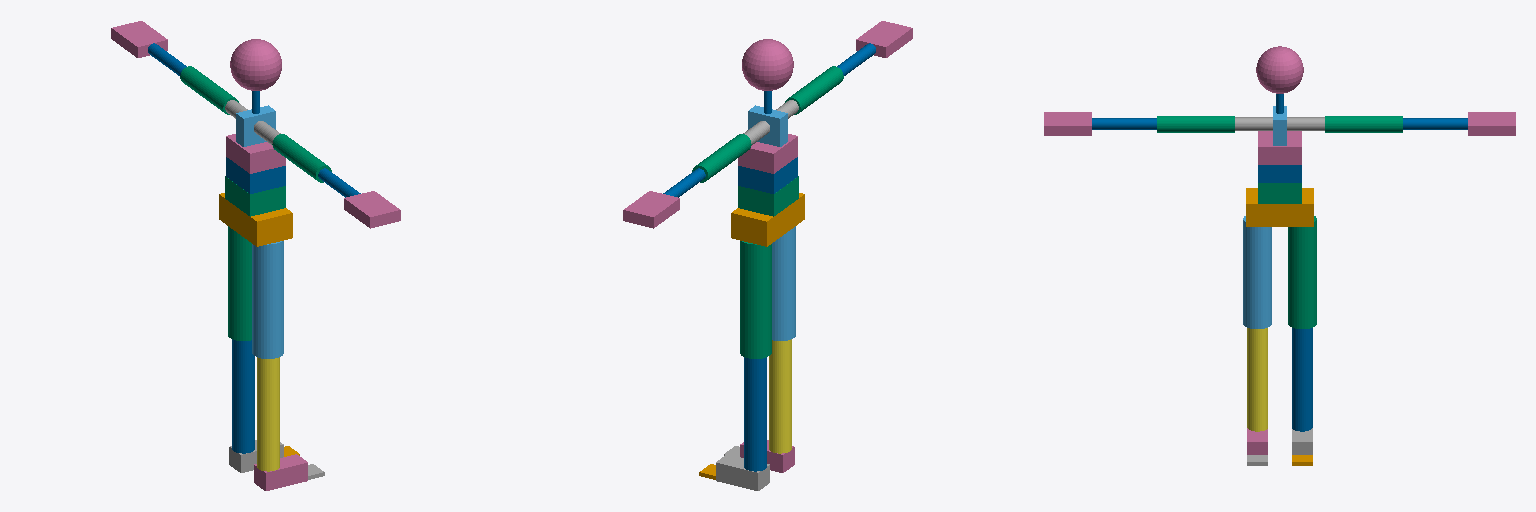
--- Render facts (derived) ---
The picture shows the robot from 3 angles, left to right: view 1: azimuth 30°, elevation 25°; view 2: azimuth 150°, elevation 25°; view 3: azimuth 270°, elevation 25°; orthographic projection.
Robot: XSensStyleModel_template — 49 links, 48 joints (48 revolute); root link Pelvis; default pose: every joint at zero.
Links seen in each view (by area): view 1: RightUpperLeg, RightLowerLeg, LeftUpperLeg, LeftLowerLeg, Head, Pelvis, RightHand, T12, L5, LeftHand, RightFoot, L3 (+4 smaller); view 2: LeftUpperLeg, LeftLowerLeg, RightUpperLeg, RightLowerLeg, Head, Pelvis, LeftHand, T12, L5, RightHand, LeftFoot, L3 (+4 smaller); view 3: RightUpperLeg, LeftUpperLeg, RightLowerLeg, LeftLowerLeg, Pelvis, Head, RightUpperArm, LeftUpperArm, T12, RightHand, LeftHand, L5 (+5 smaller).
Link boxes in pixels (bbox=[...]): RightUpperLeg: bbox=[252, 241, 283, 358]; RightLowerLeg: bbox=[257, 357, 279, 471]; LeftUpperLeg: bbox=[228, 226, 251, 340]; LeftLowerLeg: bbox=[232, 339, 254, 453]; Head: bbox=[230, 39, 281, 90]; Pelvis: bbox=[219, 193, 292, 246]; RightHand: bbox=[344, 191, 400, 228]; T12: bbox=[226, 134, 285, 173]; L5: bbox=[225, 176, 285, 216]; LeftHand: bbox=[111, 21, 167, 57]; RightFoot: bbox=[254, 454, 307, 490]; L3: bbox=[226, 157, 285, 193]; LeftUpperLeg: bbox=[740, 241, 771, 358]; LeftLowerLeg: bbox=[744, 357, 766, 471]; RightUpperLeg: bbox=[772, 226, 795, 340]; RightLowerLeg: bbox=[769, 339, 791, 453]; Head: bbox=[742, 39, 793, 90]; Pelvis: bbox=[731, 193, 804, 246]; LeftHand: bbox=[623, 191, 679, 228]; T12: bbox=[738, 134, 797, 173]; L5: bbox=[738, 176, 798, 216]; RightHand: bbox=[856, 21, 912, 57]; LeftFoot: bbox=[716, 454, 769, 490]; L3: bbox=[738, 157, 797, 193]; RightUpperLeg: bbox=[1243, 216, 1271, 328]; LeftUpperLeg: bbox=[1288, 216, 1316, 328]; RightLowerLeg: bbox=[1247, 328, 1267, 431]; LeftLowerLeg: bbox=[1292, 328, 1312, 431]; Pelvis: bbox=[1246, 188, 1313, 226]; Head: bbox=[1256, 46, 1303, 93]; RightUpperArm: bbox=[1157, 116, 1234, 132]; LeftUpperArm: bbox=[1325, 116, 1402, 132]; T12: bbox=[1258, 131, 1301, 164]; RightHand: bbox=[1044, 112, 1091, 135]; LeftHand: bbox=[1468, 112, 1515, 135]; L5: bbox=[1258, 183, 1301, 203].
Bounding box of the posed robot: 0.3211 × 1.97 × 1.83 m (x, y, z).
Geometry: primitives only (box / cylinder / sphere), no mesh files.

robot.urdf — XSensStyleModel_template:
<!--URDF MODEL 48 DoFs-->

<robot name="XSensStyleModel_template">
<!--To open this model with Gazebo replace the null masses, inertias and dimensions of the 'fake links f1 and f2'-->
    <!--LINKS-->
	<!--Link base (1)-->
	<link name="Pelvis">
        <inertial>
            <mass value="5.816"/>
			<!--COM origin wrt pHipOrigin-->
            <origin xyz="0           0    0.056125" rpy="0 0 0" />
            <inertia ixx="0.04582" iyy="0.017636" izz="0.05243" ixy="0" ixz="0" iyz="0"/>
        </inertial>

        <visual>
			<!--box origin wrt pHipOrigin-->
            <origin xyz="0           0    0.056125" rpy="0 0 0" />
            <geometry>
                <box size="0.15816     0.28838     0.10665"/>
            </geometry>
        </visual>

        <collision>
			<!--box origin wrt pHipOrigin-->
            <origin xyz="0           0    0.056125" rpy="0 0 0" />
            <geometry>
                <box size="0.15816     0.28838     0.10665"/>
            </geometry>
        </collision>

    </link>
    <!--Chain from (2) to (7)-->
	<link name="L5_f1">
        <inertial>
            <mass value="0"/>
            <origin xyz="0 0 0" rpy="0 0 0" />
            <inertia ixx="0" iyy="0" izz="0" ixy="0" ixz="0" iyz="0"/>
        </inertial>
    </link>
	<link name="L5">
        <inertial>
            <mass value="7.4154"/>
			<!--COM origin wrt jL5S1-->
            <origin xyz="0           0    0.046982" rpy="0 0 0" />
            <inertia ixx="0.027034" iyy="0.020913" izz="0.037036" ixy="0" ixz="0" iyz="0"/>
        </inertial>

        <visual>
			<!--box origin origin wrt jL5S1-->
            <origin xyz="0           0    0.046982" rpy="0 0 0" />
            <geometry>
                <box size="0.15816     0.18687    0.093964"/>
            </geometry>
        </visual>

        <collision>
			<!--box origin origin wrt jL5S1-->
            <origin xyz="0           0    0.046982" rpy="0 0 0" />
            <geometry>
                <box size="0.15816     0.18687    0.093964"/>
            </geometry>
        </collision>
    </link>
	<link name="L3_f1">
        <inertial>
            <mass value="0"/>
            <origin xyz="0 0 0" rpy="0 0 0" />
            <inertia ixx="0" iyy="0" izz="0" ixy="0" ixz="0" iyz="0"/>
        </inertial>
    </link>
	<link name="L3">
        <inertial>
            <mass value="7.4154"/>
			<!--COM origin wrt jL4L3-->
            <origin xyz="0           0    0.042435" rpy="0 0 0" />
            <inertia ixx="0.026029" iyy="0.019908" izz="0.037036" ixy="0" ixz="0" iyz="0"/>
        </inertial>

        <visual>
			<!--box origin origin wrt jL4L3-->
            <origin xyz="0           0    0.042435" rpy="0 0 0" />
            <geometry>
                <box size="0.15816     0.18687     0.08487"/>
            </geometry>
        </visual>

        <collision>
			<!--box origin origin wrt jL4L3-->
            <origin xyz="0           0    0.042435" rpy="0 0 0" />
            <geometry>
                <box size="0.15816     0.18687     0.08487"/>
            </geometry>
        </collision>
    </link>
	<link name="T12_f1">
        <inertial>
            <mass value="0"/>
            <origin xyz="0 0 0" rpy="0 0 0" />
            <inertia ixx="0" iyy="0" izz="0" ixy="0" ixz="0" iyz="0"/>
        </inertial>
    </link>
	<link name="T12">
        <inertial>
            <mass value="7.4154"/>
			<!--COM origin wrt jL1T12-->
            <origin xyz="0           0    0.042435" rpy="0 0 0" />
            <inertia ixx="0.026029" iyy="0.019908" izz="0.037036" ixy="0" ixz="0" iyz="0"/>
        </inertial>

        <visual>
			<!--box origin origin wrt jL1T12-->
            <origin xyz="0           0    0.042435" rpy="0 0 0" />
            <geometry>
                <box size="0.15816     0.18687     0.08487"/>
            </geometry>
        </visual>

        <collision>
			<!--box origin origin wrt jL1T12-->
            <origin xyz="0           0    0.042435" rpy="0 0 0" />
            <geometry>
                <box size="0.15816     0.18687     0.08487"/>
            </geometry>
        </collision>
    </link>
	<link name="T8_f1">
        <inertial>
            <mass value="0"/>
            <origin xyz="0 0 0" rpy="0 0 0" />
            <inertia ixx="0" iyy="0" izz="0" ixy="0" ixz="0" iyz="0"/>
        </inertial>
    </link>
	<link name="T8_f2">
        <inertial>
            <mass value="0"/>
            <origin xyz="0 0 0" rpy="0 0 0" />
            <inertia ixx="0" iyy="0" izz="0" ixy="0" ixz="0" iyz="0"/>
        </inertial>
    </link>
	<link name="T8">
        <inertial>
            <mass value="2.908"/>
			<!--COM origin wrt jT9T8-->
            <origin xyz="0           0    0.059789" rpy="0 0 0" />
            <inertia ixx="0.0042999" iyy="0.0083658" izz="0.0057357" ixy="0" ixz="0" iyz="0"/>
        </inertial>

        <visual>
			<!--box origin wrt jT9T8-->
            <origin xyz="0           0    0.059789" rpy="0 0 0" />
            <geometry>
                <box size="0.14221    0.058696     0.11958"/>
            </geometry>
        </visual>

        <collision>
			<!--box origin wrt jT9T8-->
            <origin xyz="0           0    0.059789" rpy="0 0 0" />
            <geometry>
                <box size="0.14221    0.058696     0.11958"/>
            </geometry>
        </collision>

    </link>
	<link name="Neck_f1">
        <inertial>
            <mass value="0"/>
            <origin xyz="0 0 0" rpy="0 0 0" />
            <inertia ixx="0" iyy="0" izz="0" ixy="0" ixz="0" iyz="0"/>
        </inertial>
    </link>
	<link name="Neck_f2">
        <inertial>
            <mass value="0"/>
            <origin xyz="0 0 0" rpy="0 0 0" />
            <inertia ixx="0" iyy="0" izz="0" ixy="0" ixz="0" iyz="0"/>
        </inertial>
    </link>
	<link name="Neck">
        <inertial>
            <mass value="0.8724"/>
			<!--COM origin wrt jT1C7-->
            <origin xyz="0           0    0.048835" rpy="0 0 0" />
            <inertia ixx="0.00091024" iyy="0.00091024" izz="0.00043345" ixy="0" ixz="0" iyz="0"/>
        </inertial>

        <visual>
			<!--box origin wrt jT1C7-->
            <origin xyz="0           0    0.048835" rpy="0 0 0" />
            <geometry>
		<cylinder length="0.09767" radius="0.015762"/>
            </geometry>
        </visual>

        <collision>
			<!--box origin wrt jT1C7-->
            <origin xyz="0           0    0.048835" rpy="0 0 0" />
            <geometry>
                <cylinder length="0.09767" radius="0.015762"/>
            </geometry>
        </collision>
    </link>
	<link name="Head_f1">
        <inertial>
            <mass value="0"/>
            <origin xyz="0 0 0" rpy="0 0 0" />
            <inertia ixx="0" iyy="0" izz="0" ixy="0" ixz="0" iyz="0"/>
        </inertial>
    </link>
	<link name="Head">
        <inertial>
            <mass value="2.6172"/>
			<!--COM origin wrt jC1Head-->
            <origin xyz="0           0    0.099558" rpy="0 0 0" />
            <inertia ixx="0.010376" iyy="0.010376" izz="0.010376" ixy="0" ixz="0" iyz="0"/>
        </inertial>

        <visual>
			<!--boc origin wrt jC1Head-->
            <origin xyz="0           0    0.099558" rpy="0 0 0" />
            <geometry>
                <sphere radius="0.099558"/>
            </geometry>
        </visual>

        <collision>
			<!--box origin wrt jC1Head-->
            <origin xyz="0           0    0.099558" rpy="0 0 0" />
            <geometry>
                <sphere radius="0.099558"/>
            </geometry>
        </collision>

    </link>
	<!--Chain from (8) to (11)-->
	<link name="RightShoulder">
        <inertial>
            <mass value="2.2537"/>
			<!--COM origin wrt jRightC7Shoulder-->
            <origin xyz="0   -0.078772           0" rpy="0 0 0" />
            <inertia ixx="0.0051014" iyy="0.00087992" izz="0.0051014" ixy="0" ixz="0" iyz="0"/>
        </inertial>

        <visual>
			<!--box origin wrt jRightC7Shoulder. RPY rotated of pi/2.-->
            <origin xyz="0   -0.078772           0" rpy="1.5708 0 0" />
            <geometry>
                <cylinder length="0.15754" radius="0.027944"/>
            </geometry>
        </visual>

        <collision>
			<!--box origin wrt jRightC7Shoulder. RPY rotated of pi/2.-->
            <origin xyz="0   -0.078772           0" rpy="1.5708 0 0" />
            <geometry>
                <cylinder length="0.15754" radius="0.027944"/>
            </geometry>
        </collision>

    </link>
	<link name="RightUpperArm_f1">
        <inertial>
            <mass value="0"/>
            <origin xyz="0 0 0" rpy="0 0 0" />
            <inertia ixx="0" iyy="0" izz="0" ixy="0" ixz="0" iyz="0"/>
        </inertial>
    </link>
	<link name="RightUpperArm_f2">
        <inertial>
            <mass value="0"/>
            <origin xyz="0 0 0" rpy="0 0 0" />
            <inertia ixx="0" iyy="0" izz="0" ixy="0" ixz="0" iyz="0"/>
        </inertial>
    </link>
    <link name="RightUpperArm">
        <inertial>
            <mass value="2.181"/>
			<!--COM origin wrt jRightShoulder-->
            <origin xyz="0    -0.16437           0" rpy="0 0 0" />
            <inertia ixx="0.020332" iyy="0.0013806" izz="0.020332" ixy="0" ixz="0" iyz="0"/>
        </inertial>

        <visual>
			<!--box origin wrt jRightShoulder. RPY rotated of pi/2.-->
            <origin xyz="0    -0.16437           0" rpy="1.5708 0 0" />
            <geometry>
                <cylinder length="0.32874" radius="0.035581"/>
            </geometry>
        </visual>

        <collision>
			<!--box origin wrt jRightShoulder. RPY rotated of pi/2.-->
            <origin xyz="0    -0.16437           0" rpy="1.5708 0 0" />
            <geometry>
                <cylinder length="0.32874" radius="0.035581"/>
            </geometry>
        </collision>

    </link>
	<link name="RightForeArm_f1">
        <inertial>
            <mass value="0"/>
            <origin xyz="0 0 0" rpy="0 0 0" />
            <inertia ixx="0" iyy="0" izz="0" ixy="0" ixz="0" iyz="0"/>
        </inertial>
    </link>
	<link name="RightForeArm">
        <inertial>
            <mass value="1.454"/>
			<!--COM origin wrt jRightElbow-->
            <origin xyz="0    -0.13431           0" rpy="0 0 0" />
            <inertia ixx="0.008948" iyy="0.00040906" izz="0.008948" ixy="0" ixz="0" iyz="0"/>
        </inertial>

        <visual>
			<!--box origin wrt jRightElbow. RPY rotated of pi/2.-->
            <origin xyz="0    -0.13431           0" rpy="1.5708 0 0" />
            <geometry>
                <cylinder length="0.26863" radius="0.023721"/>
            </geometry>
        </visual>

        <collision>
			<!--box origin wrt jRightElbow. RPY rotated of pi/2.-->
            <origin xyz="0    -0.13431           0" rpy="1.5708 0 0" />
            <geometry>
                <cylinder length="0.26863" radius="0.023721"/>
            </geometry>
        </collision>

    </link>
	<link name="RightHand_f1">
        <inertial>
            <mass value="0"/>
            <origin xyz="0 0 0" rpy="0 0 0" />
            <inertia ixx="0" iyy="0" izz="0" ixy="0" ixz="0" iyz="0"/>
        </inertial>
    </link>
	<link name="RightHand">
        <inertial>
            <mass value="1.0962"/>
			<!--COM origin wrt jRightWrist-->
            <origin xyz="0    -0.10039           0" rpy="0 0 0" />
            <inertia ixx="0.0038879" iyy="0.0018422" izz="0.0053188" ixy="0" ixz="0" iyz="0"/>
        </inertial>

        <visual>
			<!--box origin wrt jRightWrist-->
            <origin xyz="0    -0.10039           0" rpy="0 0 0" />
            <geometry>
                <box size="0.13385     0.20077    0.047441"/>
            </geometry>
        </visual>

        <collision>
			<!--box origin wrt jRightWrist-->
            <origin xyz="0    -0.10039           0" rpy="0 0 0" />
            <geometry>
                <box size="0.13385     0.20077    0.047441"/>
            </geometry>
        </collision>

    </link>
	<!--Chain from (12) to (15)-->
	<link name="LeftShoulder">
        <inertial>
            <mass value="2.2537"/>
			<!--COM origin wrt jLeftC7Shoulder-->
            <origin xyz="0    0.078772           0" rpy="0 0 0" />
            <inertia ixx="0.0051014" iyy="0.00087992" izz="0.0051014" ixy="0" ixz="0" iyz="0"/>
        </inertial>

        <visual>
			<!--box origin wrt jLeftC7Shoulder. RPY rotated of pi/2.-->
            <origin xyz="0    0.078772           0" rpy="1.5708 0 0" />
            <geometry>
                <cylinder length="0.15754" radius="0.027944"/>
            </geometry>
        </visual>

        <collision>
			<!--box origin wrt jLeftC7Shoulder. RPY rotated of pi/2.-->
            <origin xyz="0    0.078772           0" rpy="1.5708 0 0" />
            <geometry>
                <cylinder length="0.15754" radius="0.027944"/>
            </geometry>
        </collision>

    </link>
	<link name="LeftUpperArm_f1">
        <inertial>
            <mass value="0"/>
            <origin xyz="0 0 0" rpy="0 0 0" />
            <inertia ixx="0" iyy="0" izz="0" ixy="0" ixz="0" iyz="0"/>
        </inertial>
    </link>
	<link name="LeftUpperArm_f2">
        <inertial>
            <mass value="0"/>
            <origin xyz="0 0 0" rpy="0 0 0" />
            <inertia ixx="0" iyy="0" izz="0" ixy="0" ixz="0" iyz="0"/>
        </inertial>
    </link>
	<link name="LeftUpperArm">
        <inertial>
            <mass value="2.181"/>
			<!--COM origin wrt jLeftShoulder-->
            <origin xyz="0     0.16437           0" rpy="0 0 0" />
            <inertia ixx="0.020332" iyy="0.0013806" izz="0.020332" ixy="0" ixz="0" iyz="0"/>
        </inertial>

        <visual>
			<!--box origin wrt jLeftShoulder. RPY rotated of pi/2.-->
            <origin xyz="0     0.16437           0" rpy="1.5708 0 0" />
            <geometry>
                <cylinder length="0.32874" radius="0.035581"/>
            </geometry>
        </visual>

        <collision>
			<!--box origin wrt jLeftShoulder. RPY rotated of pi/2.-->
            <origin xyz="0     0.16437           0" rpy="1.5708 0 0" />
            <geometry>
                <cylinder length="0.32874" radius="0.035581"/>
            </geometry>
        </collision>

    </link>
	<link name="LeftForeArm_f1">
        <inertial>
            <mass value="0"/>
            <origin xyz="0 0 0" rpy="0 0 0" />
            <inertia ixx="0" iyy="0" izz="0" ixy="0" ixz="0" iyz="0"/>
        </inertial>
    </link>
	<link name="LeftForeArm">
        <inertial>
            <mass value="1.454"/>
			<!--COM origin wrt jLeftElbow-->
            <origin xyz="0     0.13431           0" rpy="0 0 0" />
            <inertia ixx="0.008948" iyy="0.00040906" izz="0.008948" ixy="0" ixz="0" iyz="0"/>
        </inertial>

        <visual>
			<!--box origin wrt jLeftElbow. RPY rotated of pi/2.-->
            <origin xyz="0     0.13431           0" rpy="1.5708 0 0" />
            <geometry>
                <cylinder length="0.26863" radius="0.023721"/>
            </geometry>
        </visual>

        <collision>
			<!--box origin wrt jLeftElbow. RPY rotated of pi/2.-->
            <origin xyz="0     0.13431           0" rpy="1.5708 0 0" />
            <geometry>
                <cylinder length="0.26863" radius="0.023721"/>
            </geometry>
        </collision>

    </link>
	<link name="LeftHand_f1">
        <inertial>
            <mass value="0"/>
            <origin xyz="0 0 0" rpy="0 0 0" />
            <inertia ixx="0" iyy="0" izz="0" ixy="0" ixz="0" iyz="0"/>
        </inertial>
    </link>
	<link name="LeftHand">
        <inertial>
            <mass value="0.4362"/>
			<!--COM origin wrt jLeftWrist-->
            <origin xyz="0     0.10039           0" rpy="0 0 0" />
            <inertia ixx="0.0015471" iyy="0.00073303" izz="0.0021165" ixy="0" ixz="0" iyz="0"/>
        </inertial>

        <visual>
			<!--COM origin wrt jLeftWrist-->
            <origin xyz="0     0.10039           0" rpy="0 0 0" />
            <geometry>
                <box size="0.13385     0.20077    0.047441"/>
            </geometry>
        </visual>

        <collision>
			<!--COM origin wrt jLeftWrist-->
            <origin xyz="0     0.10039           0" rpy="0 0 0" />
            <geometry>
                <box size="0.13385     0.20077    0.047441"/>
            </geometry>
        </collision>

    </link>
	<!--Chain from (16) to (19)-->
	<link name="RightUpperLeg_f1">
        <inertial>
            <mass value="0"/>
            <origin xyz="0 0 0" rpy="0 0 0" />
            <inertia ixx="0" iyy="0" izz="0" ixy="0" ixz="0" iyz="0"/>
        </inertial>
    </link>
	<link name="RightUpperLeg_f2">
        <inertial>
            <mass value="0"/>
            <origin xyz="0 0 0" rpy="0 0 0" />
            <inertia ixx="0" iyy="0" izz="0" ixy="0" ixz="0" iyz="0"/>
        </inertial>
    </link>
    <link name="RightUpperLeg">
        <inertial>
            <mass value="9.0875"/>
			<!--COM origin wrt jRightHip-->
            <origin xyz="0           0     -0.2408" rpy="0 0 0" />
            <inertia ixx="0.18406" iyy="0.18406" izz="0.016841" ixy="0" ixz="0" iyz="0"/>
        </inertial>

        <visual>
			<!--box origin wrt jRightHip-->
            <origin xyz="0           0     -0.2408" rpy="0 0 0" />
            <geometry>
                <cylinder length="0.48159" radius="0.060881"/>
            </geometry>
        </visual>

        <collision>
			<!--box origin wrt jRightHip-->
            <origin xyz="0           0     -0.2408" rpy="0 0 0" />
            <geometry>
                <cylinder length="0.48159" radius="0.060881"/>
            </geometry>
        </collision>

    </link>
	<link name="RightLowerLeg_f1">
        <inertial>
            <mass value="0"/>
            <origin xyz="0 0 0" rpy="0 0 0" />
            <inertia ixx="0" iyy="0" izz="0" ixy="0" ixz="0" iyz="0"/>
        </inertial>
    </link>
    <link name="RightLowerLeg">
        <inertial>
            <mass value="2.6536"/>
			<!--COM origin wrt jRightKnee-->
            <origin xyz="0           0    -0.23981" rpy="0 0 0" />
            <inertia ixx="0.052154" iyy="0.052154" izz="0.0025724" ixy="0" ixz="0" iyz="0"/>
        </inertial>

        <visual>
			<!--box origin wrt jRightKnee-->
            <origin xyz="0           0    -0.23981" rpy="0 0 0" />
            <geometry>
                <cylinder length="0.47962" radius="0.044033"/>
            </geometry>
        </visual>

        <collision>
			<!--box origin wrt jRightKnee-->
            <origin xyz="0           0    -0.23981" rpy="0 0 0" />
            <geometry>
                <cylinder length="0.47962" radius="0.044033"/>
            </geometry>
        </collision>

    </link>
	<link name="RightFoot_f1">
        <inertial>
            <mass value="0"/>
            <origin xyz="0 0 0" rpy="0 0 0" />
            <inertia ixx="0" iyy="0" izz="0" ixy="0" ixz="0" iyz="0"/>
        </inertial>
    </link>
	<link name="RightFoot_f2">
        <inertial>
            <mass value="0"/>
            <origin xyz="0 0 0" rpy="0 0 0" />
            <inertia ixx="0" iyy="0" izz="0" ixy="0" ixz="0" iyz="0"/>
        </inertial>
    </link>
    <link name="RightFoot">
        <inertial>
            <mass value="0.9451"/>
			<!--COM origin wrt jRightAnkle-->
            <origin xyz="0.05699           0   -0.038957" rpy="0 0 0" />
            <inertia ixx="0.0010889" iyy="0.0032762" izz="0.0034089" ixy="0" ixz="0" iyz="0"/>
        </inertial>

        <visual>
			<!--box origin wrt jRightAnkle-->
	    	<origin xyz="0.05699           0   -0.038957" rpy="0 0 0" />
            <geometry>
                <box size="0.18849    0.088065    0.077914"/>
            </geometry>
        </visual>

        <collision>
			<!--box origin wrt jRightAnkle-->
		    <origin xyz="0.05699           0   -0.038957" rpy="0 0 0" />
	            <geometry>
	                <box size="0.18849    0.088065    0.077914"/>
	            </geometry>
        </collision>

    </link>
    <link name="RightToe">
        <inertial>
            <mass value="0.10905"/>
			<!--COM origin wrt jRightBallFoot-->
            <origin xyz="0.035756           0           0" rpy="0 0 0" />
            <inertia ixx="7.299e-05" iyy="4.8986e-05" izz="0.00011695" ixy="0" ixz="0" iyz="0"/>
        </inertial>

        <visual>
			<!--box origin wrt jRightBallFoot-->
            <origin xyz="0.035756           0           0" rpy="0 0 0" />
            <geometry>
                <box size="0.071513    0.088065    0.016626"/>
            </geometry>
        </visual>

        <collision>
			<!--box origin wrt jRightBallFoot-->
            <origin xyz="0.035756           0           0" rpy="0 0 0" />
            <geometry>
                <box size="0.071513    0.088065    0.016626"/>
            </geometry>
        </collision>
    </link>
	<!--Chain from (20) to (23)-->
	<link name="LeftUpperLeg_f1">
        <inertial>
            <mass value="0"/>
            <origin xyz="0 0 0" rpy="0 0 0" />
            <inertia ixx="0" iyy="0" izz="0" ixy="0" ixz="0" iyz="0"/>
        </inertial>
    </link>
	<link name="LeftUpperLeg_f2">
        <inertial>
            <mass value="0"/>
            <origin xyz="0 0 0" rpy="0 0 0" />
            <inertia ixx="0" iyy="0" izz="0" ixy="0" ixz="0" iyz="0"/>
        </inertial>
    </link>
    <link name="LeftUpperLeg">
        <inertial>
            <mass value="9.0875"/>
			<!--COM origin wrt jLeftHip-->
            <origin xyz="0           0     -0.2408" rpy="0 0 0" />
            <inertia ixx="0.18406" iyy="0.18406" izz="0.016841" ixy="0" ixz="0" iyz="0"/>
        </inertial>

        <visual>
			<!--box origin wrt jLeftHip-->
            <origin xyz="0           0     -0.2408" rpy="0 0 0" />
            <geometry>
                <cylinder length="0.48159" radius="-0.060881"/>
            </geometry>
        </visual>

        <collision>
			<!--box origin wrt jLeftHip-->
            <origin xyz="0           0     -0.2408" rpy="0 0 0" />
            <geometry>
                <cylinder length="0.48159" radius="-0.060881"/>
            </geometry>
        </collision>

    </link>
	<link name="LeftLowerLeg_f1">
        <inertial>
            <mass value="0"/>
            <origin xyz="0 0 0" rpy="0 0 0" />
            <inertia ixx="0" iyy="0" izz="0" ixy="0" ixz="0" iyz="0"/>
        </inertial>
    </link>
	<link name="LeftLowerLeg">
        <inertial>
            <mass value="2.6536"/>
			<!--COM origin wrt jLeftKnee-->
            <origin xyz="0           0    -0.23981" rpy="0 0 0" />
            <inertia ixx="0.052154" iyy="0.052154" izz="0.0025724" ixy="0" ixz="0" iyz="0"/>
        </inertial>

        <visual>
			<!--box origin wrt jLeftKnee-->
            <origin xyz="0           0    -0.23981" rpy="0 0 0" />
            <geometry>
		<cylinder length="0.47962" radius="0.044033"/>
            </geometry>
        </visual>

        <collision>
			<!--box origin wrt jLeftKnee-->
            <origin xyz="0           0    -0.23981" rpy="0 0 0" />
            <geometry>
		<cylinder length="0.47962" radius="0.044033"/>
            </geometry>
        </collision>

    </link>
	<link name="LeftFoot_f1">
        <inertial>
            <mass value="0"/>
            <origin xyz="0 0 0" rpy="0 0 0" />
            <inertia ixx="0" iyy="0" izz="0" ixy="0" ixz="0" iyz="0"/>
        </inertial>
    </link>
	<link name="LeftFoot_f2">
        <inertial>
            <mass value="0"/>
            <origin xyz="0 0 0" rpy="0 0 0" />
            <inertia ixx="0" iyy="0" izz="0" ixy="0" ixz="0" iyz="0"/>
        </inertial>
    </link>
    <link name="LeftFoot">
        <inertial>
            <mass value="0.9451"/>
			<!--COM origin wrt jLeftAnkle-->
            <origin xyz="0.05699           0   -0.038957" rpy="0 0 0" />
            <inertia ixx="0.0010889" iyy="0.0032762" izz="0.0034089" ixy="0" ixz="0" iyz="0"/>
        </inertial>

        <visual>
			<!--box origin wrt jLeftAnkle-->
	   	 	<origin xyz="0.05699           0   -0.038957" rpy="0 0 0" />
            <geometry>
                <box size="0.18849    0.088065    0.077914"/>
            </geometry>
        </visual>

        <collision>
			<!--box origin wrt jLeftAnkle-->
		    <origin xyz="0.05699           0   -0.038957" rpy="0 0 0" />
	            <geometry>
	                <box size="0.18849    0.088065    0.077914"/>
	            </geometry>
        </collision>

    </link>
	<link name="LeftToe">
        <inertial>
            <mass value="0.10905"/>
			<!--COM origin wrt jLeftBallFoot-->
            <origin xyz="0.035756           0           0" rpy="0 0 0" />
            <inertia ixx="7.299e-05" iyy="4.8986e-05" izz="0.00011695" ixy="0" ixz="0" iyz="0"/>
        </inertial>

        <visual>
			<!--box origin wrt jLeftBallFoot-->
            <origin xyz="0.035756           0           0" rpy="0 0 0" />
            <geometry>
                <box size="0.071513    0.088065    0.016626"/>
            </geometry>
        </visual>

        <collision>
			<!--box origin wrt jLeftBallFoot-->
            <origin xyz="0.035756           0           0" rpy="0 0 0" />
            <geometry>
                <box size="0.071513    0.088065    0.016626"/>
            </geometry>
        </collision>
    </link>


	<!--JOINTS-->
	<!--Chain from (2) to (7)-->
	<joint name="jL5S1_rotx" type="revolute">
        <origin xyz="-0.000571           0     0.10945" rpy="0 0 0"/>
        <parent link="Pelvis"/>
        <child link="L5_f1"/>
        <dynamics damping="0.1" friction="0.0"/>
        <limit effort="30" velocity="1.0" lower="-0.610865" upper="0.610865" />
        <axis xyz="1 0 0" />
    </joint>
	<joint name="jL5S1_roty" type="revolute">
        <origin xyz="0 0 0" rpy="0 0 0"/>
        <parent link="L5_f1"/>
        <child link="L5"/>
        <dynamics damping="0.1" friction="0.0"/>
        <limit effort="30" velocity="1.0" lower="-0.523599" upper="1.309" />
        <axis xyz="0 1 0" />
    </joint>
	<joint name="jL4L3_rotx" type="revolute">
        <origin xyz="0.001038           0    0.093964" rpy="0 0 0"/>
        <parent link="L5"/>
        <child link="L3_f1"/>
        <dynamics damping="0.1" friction="0.0"/>
        <limit effort="30" velocity="1.0" lower="-0.610865" upper="0.610865" />
        <axis xyz="1 0 0" />
    </joint>
	<joint name="jL4L3_roty" type="revolute">
        <origin xyz="0 0 0" rpy="0 0 0"/>
        <parent link="L3_f1"/>
        <child link="L3"/>
        <dynamics damping="0.1" friction="0.0"/>
        <limit effort="30" velocity="1.0" lower="-0.523599" upper="1.309" />
        <axis xyz="0 1 0" />
    </joint>
	<joint name="jL1T12_rotx" type="revolute">
        <origin xyz="0           0     0.08487" rpy="0 0 0"/>
        <parent link="L3"/>
        <child link="T12_f1"/>
        <dynamics damping="0.1" friction="0.0"/>
        <limit effort="30" velocity="1.0" lower="-0.610865" upper="0.610865" />
        <axis xyz="1 0 0" />
    </joint>
	<joint name="jL1T12_roty" type="revolute">
        <origin xyz="0 0 0" rpy="0 0 0"/>
        <parent link="T12_f1"/>
        <child link="T12"/>
        <dynamics damping="0.1" friction="0.0"/>
        <limit effort="30" velocity="1.0" lower="-0.523599" upper="1.309" />
        <axis xyz="0 1 0" />
    </joint>
	<joint name="jT9T8_rotx" type="revolute">
        <origin xyz="0           0     0.08487" rpy="0 0 0"/>
        <parent link="T12"/>
        <child link="T8_f1"/>
        <dynamics damping="0.1" friction="0.0"/>
        <limit effort="30" velocity="1.0" lower="-0.349066" upper="0.349066" />
        <axis xyz="1 0 0" />
    </joint>
	<joint name="jT9T8_roty" type="revolute">
        <origin xyz="0 0 0" rpy="0 0 0"/>
        <parent link="T8_f1"/>
        <child link="T8_f2"/>
        <dynamics damping="0.1" friction="0.0"/>
        <limit effort="30" velocity="1.0" lower="-0.261799" upper="0.698132" />
        <axis xyz="0 1 0" />
    </joint>
    <joint name="jT9T8_rotz" type="revolute">
        <origin xyz="0 0 0" rpy="0 0 0"/>
        <parent link="T8_f2"/>
        <child link="T8"/>
        <dynamics damping="0.1" friction="0.0"/>
        <limit effort="30" velocity="1.0" lower="-0.610865" upper="0.610865" />
        <axis xyz="0 0 1" />
    </joint>
	<joint name="jT1C7_rotx" type="revolute">
        <origin xyz="0           0     0.11958" rpy="0 0 0"/>
        <parent link="T8"/>
        <child link="Neck_f1"/>
        <dynamics damping="0.1" friction="0.0"/>
        <limit effort="30" velocity="1.0" lower="-0.610865" upper="0.610865" />
        <axis xyz="1 0 0" />
    </joint>
	<joint name="jT1C7_roty" type="revolute">
        <origin xyz="0 0 0" rpy="0 0 0"/>
        <parent link="Neck_f1"/>
        <child link="Neck_f2"/>
        <dynamics damping="0.1" friction="0.0"/>
        <limit effort="30" velocity="1.0" lower="-0.959931" upper="1.5708" />
        <axis xyz="0 1 0" />
    </joint>
    <joint name="jT1C7_rotz" type="revolute">
        <origin xyz="0 0 0" rpy="0 0 0"/>
        <parent link="Neck_f2"/>
        <child link="Neck"/>
        <dynamics damping="0.1" friction="0.0"/>
        <limit effort="30" velocity="1.0" lower="-1.22173" upper="1.22173" />
        <axis xyz="0 0 1" />
    </joint>
	<joint name="jC1Head_rotx" type="revolute">
        <origin xyz="0.000993           0     0.09767" rpy="0 0 0"/>
        <parent link="Neck"/>
        <child link="Head_f1"/>
        <dynamics damping="0.1" friction="0.0"/>
        <limit effort="30" velocity="1.0" lower="-0.610865" upper="0.610865" />
        <axis xyz="1 0 0" />
    </joint>
	<joint name="jC1Head_roty" type="revolute">
        <origin xyz="0 0 0" rpy="0 0 0"/>
        <parent link="Head_f1"/>
        <child link="Head"/>
        <dynamics damping="0.1" friction="0.0"/>
        <limit effort="30" velocity="1.0" lower="-0.436332" upper="0.174533" />
        <axis xyz="0 1 0" />
    </joint>
	<!--Chain from (8) to (11)-->
	<joint name="jRightC7Shoulder_rotx" type="revolute">
        <origin xyz="0   -0.029348    0.067373" rpy="0 0 0"/>
        <parent link="T8"/>
        <child link="RightShoulder"/>
        <dynamics damping="0.1" friction="0.0"/>
        <limit effort="30" velocity="1.0" lower="-0.0872665" upper="0.785398" />
        <axis xyz="1 0 0" />
    </joint>
	<joint name="jRightShoulder_rotx" type="revolute">
        <origin xyz="0    -0.15754           0" rpy="0 0 0"/>
        <parent link="RightShoulder"/>
        <child link="RightUpperArm_f1"/>
        <dynamics damping="0.1" friction="0.0"/>
        <limit effort="30" velocity="1.0" lower="-2.35619" upper="1.5708" />
        <axis xyz="1 0 0" />
    </joint>
	<joint name="jRightShoulder_roty" type="revolute">
        <origin xyz="0 0 0" rpy="0 0 0"/>
        <parent link="RightUpperArm_f1"/>
        <child link="RightUpperArm_f2"/>
        <dynamics damping="0.1" friction="0.0"/>
        <limit effort="30" velocity="1.0" lower="-1.5708" upper="1.5708" />
        <axis xyz="0 1 0" />
    </joint>
    <joint name="jRightShoulder_rotz" type="revolute">
        <origin xyz="0 0 0" rpy="0 0 0"/>
        <parent link="RightUpperArm_f2"/>
        <child link="RightUpperArm"/>
        <dynamics damping="0.1" friction="0.0"/>
        <limit effort="30" velocity="1.0" lower="-0.785398" upper="3.14159" />
        <axis xyz="0 0 1" />
    </joint>
	<joint name="jRightElbow_roty" type="revolute">
        <origin xyz="0    -0.32874           0" rpy="0 0 0"/>
        <parent link="RightUpperArm"/>
        <child link="RightForeArm_f1"/>
        <dynamics damping="0.1" friction="0.0"/>
        <limit effort="30" velocity="1.0" lower="-1.5708" upper="1.48353" />
        <axis xyz="0 1 0" />
    </joint>
	<joint name="jRightElbow_rotz" type="revolute">
        <origin xyz="0 0 0" rpy="0 0 0"/>
        <parent link="RightForeArm_f1"/>
        <child link="RightForeArm"/>
        <dynamics damping="0.1" friction="0.0"/>
        <limit effort="30" velocity="1.0" lower="0" upper="2.53073" />
        <axis xyz="0 0 1" />
    </joint>
	<joint name="jRightWrist_rotx" type="revolute">
        <origin xyz="-1.2e-05    -0.26863           0" rpy="0 0 0"/>
        <parent link="RightForeArm"/>
        <child link="RightHand_f1"/>
        <dynamics damping="0.1" friction="0.0"/>
        <limit effort="30" velocity="1.0" lower="-0.872665" upper="1.0472" />
        <axis xyz="1 0 0" />
    </joint>
	<joint name="jRightWrist_rotz" type="revolute">
        <origin xyz="0 0 0" rpy="0 0 0"/>
        <parent link="RightHand_f1"/>
        <child link="RightHand"/>
        <dynamics damping="0.1" friction="0.0"/>
        <limit effort="30" velocity="1.0" lower="-0.523599" upper="0.349066" />
        <axis xyz="0 0 1" />
    </joint>
	<!--Chain from (12) to (15)-->
	<joint name="jLeftC7Shoulder_rotx" type="revolute">
        <origin xyz="0    0.029348    0.067373" rpy="0 0 0"/>
        <parent link="T8"/>
        <child link="LeftShoulder"/>
        <dynamics damping="0.1" friction="0.0"/>
        <limit effort="30" velocity="1.0" lower="-0.0872665" upper="0.785398" />
        <axis xyz="1 0 0" />
    </joint>
	<joint name="jLeftShoulder_rotx" type="revolute">
        <origin xyz="0     0.15754           0" rpy="0 0 0"/>
        <parent link="LeftShoulder"/>
        <child link="LeftUpperArm_f1"/>
        <dynamics damping="0.1" friction="0.0"/>
        <limit effort="30" velocity="1.0" lower="-1.5708" upper="2.35619" />
        <axis xyz="1 0 0" />
    </joint>
	<joint name="jLeftShoulder_roty" type="revolute">
        <origin xyz="0 0 0" rpy="0 0 0"/>
        <parent link="LeftUpperArm_f1"/>
        <child link="LeftUpperArm_f2"/>
        <dynamics damping="0.1" friction="0.0"/>
        <limit effort="30" velocity="1.0" lower="-1.5708" upper="1.5708" />
        <axis xyz="0 1 0" />
    </joint>
    <joint name="jLeftShoulder_rotz" type="revolute">
        <origin xyz="0 0 0" rpy="0 0 0"/>
        <parent link="LeftUpperArm_f2"/>
        <child link="LeftUpperArm"/>
        <dynamics damping="0.1" friction="0.0"/>
        <limit effort="30" velocity="1.0" lower="-3.14159" upper="0.785398" />
        <axis xyz="0 0 1" />
    </joint>
    <joint name="jLeftElbow_roty" type="revolute">
        <origin xyz="0     0.32874           0" rpy="0 0 0"/>
        <parent link="LeftUpperArm"/>
        <child link="LeftForeArm_f1"/>
        <dynamics damping="0.1" friction="0.0"/>
        <limit effort="30" velocity="1.0" lower="-1.5708" upper="1.48353" />
        <axis xyz="0 1 0" />
    </joint>
    <joint name="jLeftElbow_rotz" type="revolute">
        <origin xyz="0 0 0" rpy="0 0 0"/>
        <parent link="LeftForeArm_f1"/>
        <child link="LeftForeArm"/>
        <dynamics damping="0.1" friction="0.0"/>
        <limit effort="30" velocity="1.0" lower="-2.53073" upper="0" />
        <axis xyz="0 0 1" />
    </joint>
	<joint name="jLeftWrist_rotx" type="revolute">
        <origin xyz="-1.2e-05     0.26863           0" rpy="0 0 0"/>
        <parent link="LeftForeArm"/>
        <child link="LeftHand_f1"/>
        <dynamics damping="0.1" friction="0.0"/>
        <limit effort="30" velocity="1.0" lower="-1.0472" upper="0.872665" />
        <axis xyz="1 0 0" />
    </joint>
	<joint name="jLeftWrist_rotz" type="revolute">
        <origin xyz="0 0 0" rpy="0 0 0"/>
        <parent link="LeftHand_f1"/>
        <child link="LeftHand"/>
        <dynamics damping="0.1" friction="0.0"/>
        <limit effort="30" velocity="1.0" lower="-0.349066" upper="0.523599" />
        <axis xyz="0 0 1" />
    </joint>
	<!--Chain from (16) to (19)-->
	<joint name="jRightHip_rotx" type="revolute">
        <origin xyz="0.000286   -0.093433    0.002799" rpy="0 0 0"/>
        <parent link="Pelvis"/>
        <child link="RightUpperLeg_f1"/>
        <dynamics damping="0.1" friction="0.0"/>
        <limit effort="30" velocity="1.0" lower="-0.523599" upper="0.785398" />
        <axis xyz="1 0 0" />
    </joint>
	<joint name="jRightHip_roty" type="revolute">
        <origin xyz="0 0 0" rpy="0 0 0"/>
        <parent link="RightUpperLeg_f1"/>
        <child link="RightUpperLeg_f2"/>
        <dynamics damping="0.1" friction="0.0"/>
        <limit effort="30" velocity="1.0" lower="-0.261799" upper="2.0944" />
        <axis xyz="0 1 0" />
    </joint>
    <joint name="jRightHip_rotz" type="revolute">
        <origin xyz="0 0 0" rpy="0 0 0"/>
        <parent link="RightUpperLeg_f2"/>
        <child link="RightUpperLeg"/>
        <dynamics damping="0.1" friction="0.0"/>
        <limit effort="30" velocity="1.0" lower="-0.785398" upper="0.785398" />
        <axis xyz="0 0 1" />
    </joint>
	<joint name="jRightKnee_roty" type="revolute">
        <origin xyz="-6.6e-05           0    -0.48159" rpy="0 0 0"/>
        <parent link="RightUpperLeg"/>
        <child link="RightLowerLeg_f1"/>
        <dynamics damping="0.1" friction="0.0"/>
        <limit effort="30" velocity="1.0" lower="0" upper="2.35619" />
        <axis xyz="0 1 0" />
    </joint>
	<joint name="jRightKnee_rotz" type="revolute">
        <origin xyz="0 0 0" rpy="0 0 0"/>
        <parent link="RightLowerLeg_f1"/>
        <child link="RightLowerLeg"/>
        <dynamics damping="0.1" friction="0.0"/>
        <limit effort="30" velocity="1.0" lower="-0.698132" upper="0.523599" />
        <axis xyz="0 0 1" />
    </joint>
	<joint name="jRightAnkle_rotx" type="revolute">
        <origin xyz="1e-06           0    -0.47962" rpy="0 0 0"/>
        <parent link="RightLowerLeg"/>
        <child link="RightFoot_f1"/>
        <dynamics damping="0.1" friction="0.0"/>
        <limit effort="30" velocity="1.0" lower="-0.610865" upper="0.785398" />
        <axis xyz="1 0 0" />
    </joint>
	<joint name="jRightAnkle_roty" type="revolute">
        <origin xyz="0 0 0" rpy="0 0 0"/>
        <parent link="RightFoot_f1"/>
        <child link="RightFoot_f2"/>
        <dynamics damping="0.1" friction="0.0"/>
        <limit effort="30" velocity="1.0" lower="-0.523599" upper="0.872665" />
        <axis xyz="0 1 0" />
    </joint>
    <joint name="jRightAnkle_rotz" type="revolute">
        <origin xyz="0 0 0" rpy="0 0 0"/>
        <parent link="RightFoot_f2"/>
        <child link="RightFoot"/>
        <dynamics damping="0.1" friction="0.0"/>
        <limit effort="30" velocity="1.0" lower="-0.436332" upper="0.872665" />
        <axis xyz="0 0 1" />
    </joint>
	<joint name="jRightBallFoot_roty" type="revolute">
        <origin xyz="0.15123           0   -0.065325" rpy="0 0 0"/>
        <parent link="RightFoot"/>
        <child link="RightToe"/>
        <dynamics damping="0.1" friction="0.0"/>
        <limit effort="30" velocity="1.0" lower="-0.174533" upper="1.5708" />
        <axis xyz="0 1 0" />
    </joint>
	<!--Chain from (20) to (23)-->
	<joint name="jLeftHip_rotx" type="revolute">
        <origin xyz="0.000286    0.093433    0.002799" rpy="0 0 0"/>
        <parent link="Pelvis"/>
        <child link="LeftUpperLeg_f1"/>
        <dynamics damping="0.1" friction="0.0"/>
        <limit effort="30" velocity="1.0" lower="-0.523599" upper="0.785398" />
        <axis xyz="1 0 0" />
    </joint>
	<joint name="jLeftHip_roty" type="revolute">
        <origin xyz="0 0 0" rpy="0 0 0"/>
        <parent link="LeftUpperLeg_f1"/>
        <child link="LeftUpperLeg_f2"/>
        <dynamics damping="0.1" friction="0.0"/>
        <limit effort="30" velocity="1.0" lower="-0.261799" upper="2.0944" />
        <axis xyz="0 1 0" />
    </joint>
    <joint name="jLeftHip_rotz" type="revolute">
        <origin xyz="0 0 0" rpy="0 0 0"/>
        <parent link="LeftUpperLeg_f2"/>
        <child link="LeftUpperLeg"/>
        <dynamics damping="0.1" friction="0.0"/>
        <limit effort="30" velocity="1.0" lower="-0.785398" upper="0.785398" />
        <axis xyz="0 0 1" />
    </joint>
	<joint name="jLeftKnee_roty" type="revolute">
        <origin xyz="-6.6e-05           0    -0.48159" rpy="0 0 0"/>
        <parent link="LeftUpperLeg"/>
        <child link="LeftLowerLeg_f1"/>
        <dynamics damping="0.1" friction="0.0"/>
        <limit effort="30" velocity="1.0" lower="0" upper="2.35619" />
        <axis xyz="0 1 0" />
    </joint>
    <joint name="jLeftKnee_rotz" type="revolute">
        <origin xyz="0 0 0" rpy="0 0 0"/>
        <parent link="LeftLowerLeg_f1"/>
        <child link="LeftLowerLeg"/>
        <dynamics damping="0.1" friction="0.0"/>
        <limit effort="30" velocity="1.0" lower="-0.523599" upper="0.698132" />
        <axis xyz="0 0 1" />
    </joint>
	<joint name="jLeftAnkle_rotx" type="revolute">
        <origin xyz="1e-06           0    -0.47962" rpy="0 0 0"/>
        <parent link="LeftLowerLeg"/>
        <child link="LeftFoot_f1"/>
        <dynamics damping="0.1" friction="0.0"/>
        <limit effort="30" velocity="1.0" lower="-0.610865" upper="0.785398" />
        <axis xyz="1 0 0" />
    </joint>
	<joint name="jLeftAnkle_roty" type="revolute">
        <origin xyz="0 0 0" rpy="0 0 0"/>
        <parent link="LeftFoot_f1"/>
        <child link="LeftFoot_f2"/>
        <dynamics damping="0.1" friction="0.0"/>
        <limit effort="30" velocity="1.0" lower="-0.523599" upper="0.872665" />
        <axis xyz="0 1 0" />
    </joint>
    <joint name="jLeftAnkle_rotz" type="revolute">
        <origin xyz="0 0 0" rpy="0 0 0"/>
        <parent link="LeftFoot_f2"/>
        <child link="LeftFoot"/>
        <dynamics damping="0.1" friction="0.0"/>
        <limit effort="30" velocity="1.0" lower="-0.872665" upper="0.436332" />
        <axis xyz="0 0 1" />
    </joint>
	<joint name="jLeftBallFoot_roty" type="revolute">
        <origin xyz="0.15123           0   -0.065325" rpy="0 0 0"/>
        <parent link="LeftFoot"/>
        <child link="LeftToe"/>
        <dynamics damping="0.1" friction="0.0"/>
        <limit effort="30" velocity="1.0" lower="-0.174533" upper="1.5708" />
        <axis xyz="0 1 0" />
    </joint>

	<!-- Sensor  1-->
<sensor name="Pelvis_gyro" type="gyroscope">
<parent link="Pelvis"/>
<origin xyz="-0.064953  7.3342e-05     0.11133" rpy="0.18093      1.2598     -2.9441"/>
</sensor>
<sensor name="Pelvis_accelerometer" type="accelerometer">
<parent link="Pelvis"/>
<origin xyz="-0.064953  7.3342e-05     0.11133" rpy="0.18093      1.2598     -2.9441"/>
</sensor>
<!-- Sensor  2-->
<sensor name="T8_gyro" type="gyroscope">
<parent link="T8"/>
<origin xyz="0.13274 -3.5522e-05    0.072976" rpy="0.10969       1.201    -0.13773"/>
</sensor>
<sensor name="T8_accelerometer" type="accelerometer">
<parent link="T8"/>
<origin xyz="0.13274 -3.5522e-05    0.072976" rpy="0.10969       1.201    -0.13773"/>
</sensor>
<!-- Sensor  3-->
<sensor name="Head_gyro" type="gyroscope">
<parent link="Head"/>
<origin xyz="-0.078154  9.5957e-05    0.085802" rpy="1.9773     -0.1601     -1.7016"/>
</sensor>
<sensor name="Head_accelerometer" type="accelerometer">
<parent link="Head"/>
<origin xyz="-0.078154  9.5957e-05    0.085802" rpy="1.9773     -0.1601     -1.7016"/>
</sensor>
<!-- Sensor  4-->
<sensor name="RightShoulder_gyro" type="gyroscope">
<parent link="RightShoulder"/>
<origin xyz="-0.022346   -0.055932   -0.067036" rpy="1.2429    -0.30476     -1.4616"/>
</sensor>
<sensor name="RightShoulder_accelerometer" type="accelerometer">
<parent link="RightShoulder"/>
<origin xyz="-0.022346   -0.055932   -0.067036" rpy="1.2429    -0.30476     -1.4616"/>
</sensor>
<!-- Sensor  5-->
<sensor name="RightUpperArm_gyro" type="gyroscope">
<parent link="RightUpperArm"/>
<origin xyz="-0.021873    -0.10943    0.021884" rpy="0.02004    -0.11963     -1.6812"/>
</sensor>
<sensor name="RightUpperArm_accelerometer" type="accelerometer">
<parent link="RightUpperArm"/>
<origin xyz="-0.021873    -0.10943    0.021884" rpy="0.02004    -0.11963     -1.6812"/>
</sensor>
<!-- Sensor  6-->
<sensor name="RightForeArm_gyro" type="gyroscope">
<parent link="RightForeArm"/>
<origin xyz="0.0021274    -0.21903    0.021991" rpy="-0.61456   -0.082799     -1.3499"/>
</sensor>
<sensor name="RightForeArm_accelerometer" type="accelerometer">
<parent link="RightForeArm"/>
<origin xyz="0.0021274    -0.21903    0.021991" rpy="-0.61456   -0.082799     -1.3499"/>
</sensor>
<!-- Sensor  7-->
<sensor name="RightHand_gyro" type="gyroscope">
<parent link="RightHand"/>
<origin xyz="7.0533e-05   -0.060282    0.021961" rpy="-0.469   -0.050132     -1.5645"/>
</sensor>
<sensor name="RightHand_accelerometer" type="accelerometer">
<parent link="RightHand"/>
<origin xyz="7.0533e-05   -0.060282    0.021961" rpy="-0.469   -0.050132     -1.5645"/>
</sensor>
<!-- Sensor  8-->
<sensor name="LeftShoulder_gyro" type="gyroscope">
<parent link="LeftShoulder"/>
<origin xyz="-0.022432    0.055917   -0.067099" rpy="-1.0424     -0.2698       1.277"/>
</sensor>
<sensor name="LeftShoulder_accelerometer" type="accelerometer">
<parent link="LeftShoulder"/>
<origin xyz="-0.022432    0.055917   -0.067099" rpy="-1.0424     -0.2698       1.277"/>
</sensor>
<!-- Sensor  9-->
<sensor name="LeftUpperArm_gyro" type="gyroscope">
<parent link="LeftUpperArm"/>
<origin xyz="-0.021914     0.10939    0.021888" rpy="-0.12427   -0.032078      1.5431"/>
</sensor>
<sensor name="LeftUpperArm_accelerometer" type="accelerometer">
<parent link="LeftUpperArm"/>
<origin xyz="-0.021914     0.10939    0.021888" rpy="-0.12427   -0.032078      1.5431"/>
</sensor>
<!-- Sensor  10-->
<sensor name="LeftForeArm_gyro" type="gyroscope">
<parent link="LeftForeArm"/>
<origin xyz="0.0019854      0.2191    0.021912" rpy="0.45205   -0.015076       1.341"/>
</sensor>
<sensor name="LeftForeArm_accelerometer" type="accelerometer">
<parent link="LeftForeArm"/>
<origin xyz="0.0019854      0.2191    0.021912" rpy="0.45205   -0.015076       1.341"/>
</sensor>
<!-- Sensor  11-->
<sensor name="LeftHand_gyro" type="gyroscope">
<parent link="LeftHand"/>
<origin xyz="-2.7619e-05    0.060232     0.02196" rpy="0.24148   0.0024362      1.5452"/>
</sensor>
<sensor name="LeftHand_accelerometer" type="accelerometer">
<parent link="LeftHand"/>
<origin xyz="-2.7619e-05    0.060232     0.02196" rpy="0.24148   0.0024362      1.5452"/>
</sensor>
<!-- Sensor  12-->
<sensor name="RightUpperLeg_gyro" type="gyroscope">
<parent link="RightUpperLeg"/>
<origin xyz="0.01394   -0.049214     -0.2906" rpy="3.07      1.4018      1.5033"/>
</sensor>
<sensor name="RightUpperLeg_accelerometer" type="accelerometer">
<parent link="RightUpperLeg"/>
<origin xyz="0.01394   -0.049214     -0.2906" rpy="3.07      1.4018      1.5033"/>
</sensor>
<!-- Sensor  13-->
<sensor name="RightLowerLeg_gyro" type="gyroscope">
<parent link="RightLowerLeg"/>
<origin xyz="0.036327   0.0082782    -0.15582" rpy="-3.1219      1.4366     -2.7423"/>
</sensor>
<sensor name="RightLowerLeg_accelerometer" type="accelerometer">
<parent link="RightLowerLeg"/>
<origin xyz="0.036327   0.0082782    -0.15582" rpy="-3.1219      1.4366     -2.7423"/>
</sensor>
<!-- Sensor  14-->
<sensor name="RightFoot_gyro" type="gyroscope">
<parent link="RightFoot"/>
<origin xyz="0.087436   0.0013342   -0.012582" rpy="0.23261     0.45881    -0.16253"/>
</sensor>
<sensor name="RightFoot_accelerometer" type="accelerometer">
<parent link="RightFoot"/>
<origin xyz="0.087436   0.0013342   -0.012582" rpy="0.23261     0.45881    -0.16253"/>
</sensor>
<!-- Sensor  15-->
<sensor name="LeftUpperLeg_gyro" type="gyroscope">
<parent link="LeftUpperLeg"/>
<origin xyz="0.013998    0.049135    -0.29079" rpy="-2.8263      1.4339     -1.3177"/>
</sensor>
<sensor name="LeftUpperLeg_accelerometer" type="accelerometer">
<parent link="LeftUpperLeg"/>
<origin xyz="0.013998    0.049135    -0.29079" rpy="-2.8263      1.4339     -1.3177"/>
</sensor>
<!-- Sensor  16-->
<sensor name="LeftLowerLeg_gyro" type="gyroscope">
<parent link="LeftLowerLeg"/>
<origin xyz="0.036205  -0.0084208    -0.15595" rpy="2.5606      1.4033      2.3269"/>
</sensor>
<sensor name="LeftLowerLeg_accelerometer" type="accelerometer">
<parent link="LeftLowerLeg"/>
<origin xyz="0.036205  -0.0084208    -0.15595" rpy="2.5606      1.4033      2.3269"/>
</sensor>
<!-- Sensor  17-->
<sensor name="LeftFoot_gyro" type="gyroscope">
<parent link="LeftFoot"/>
<origin xyz="0.087269  -0.0015436   -0.012394" rpy="0.0012317     0.58393     0.19088"/>
</sensor>
<sensor name="LeftFoot_accelerometer" type="accelerometer">
<parent link="LeftFoot"/>
<origin xyz="0.087269  -0.0015436   -0.012394" rpy="0.0012317     0.58393     0.19088"/>
</sensor>


</robot>
